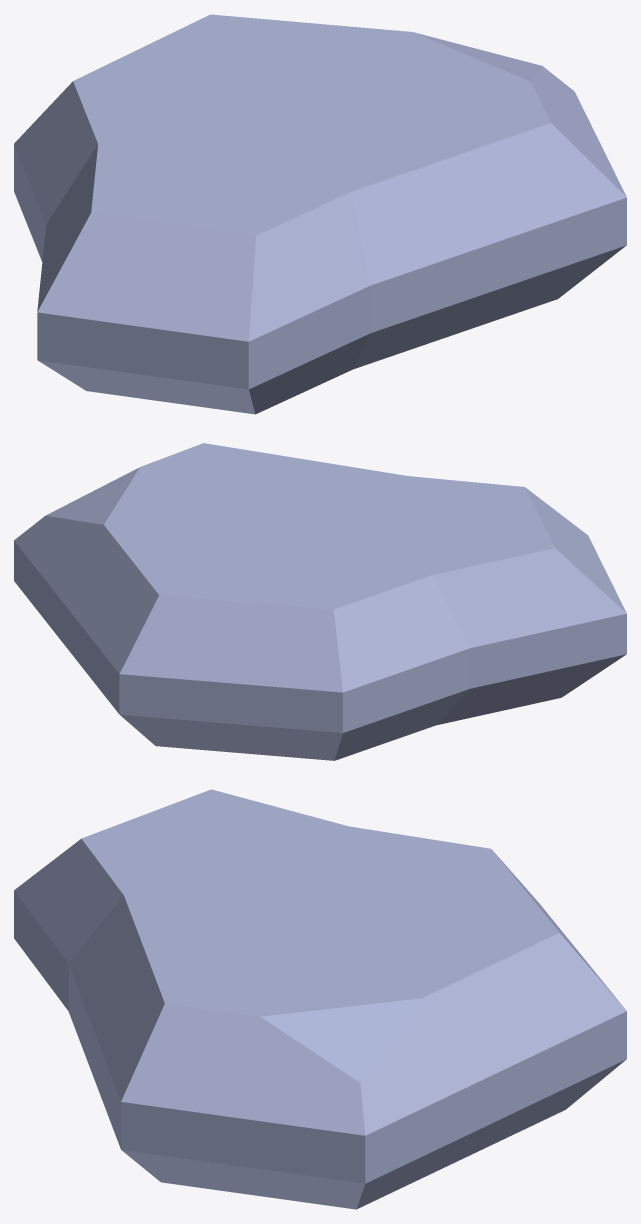
The model's file is rock_flat.glb.
3 views of the same model, one above another, from view 1: azimuth 30°, elevation 25°; view 2: azimuth 150°, elevation 25°; view 3: azimuth 270°, elevation 25° (orthographic). The views are drawn at different scales.
Visible parts, largest first — view 1: rock_flat; view 2: rock_flat; view 3: rock_flat.
Boxes of the visible parts, x1=… form: rock_flat: x1=14, y1=14, x2=626, y2=414; rock_flat: x1=14, y1=443, x2=626, y2=760; rock_flat: x1=14, y1=789, x2=626, y2=1209.
Size of the model in its own units: 1.1 by 0.2922 by 0.9199.
